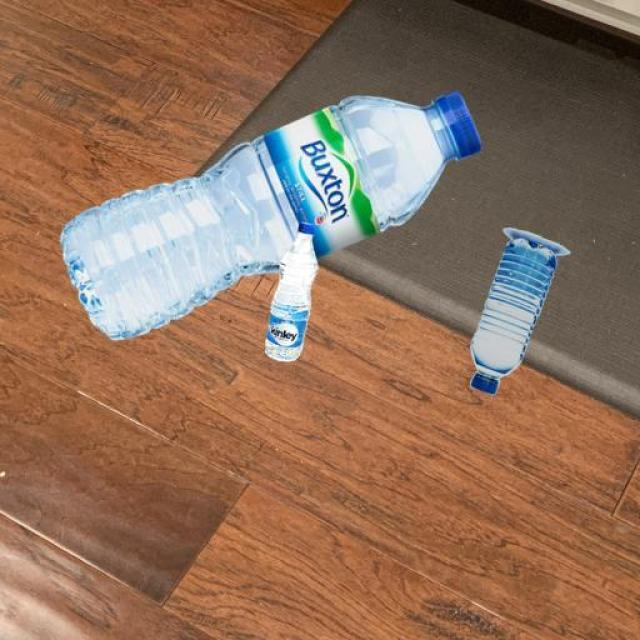bottle: (51, 71, 488, 349), (449, 222, 576, 412), (252, 226, 332, 368)
